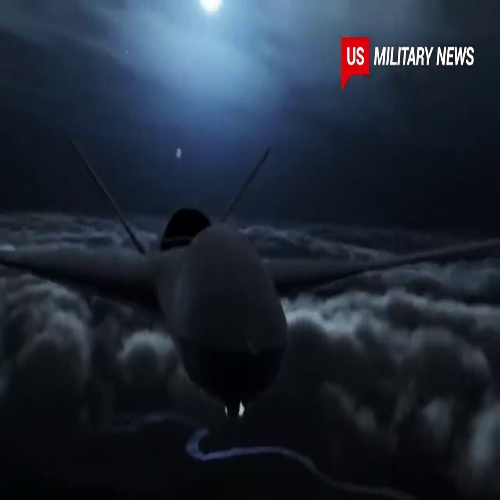uav174: (5, 163, 494, 403)
